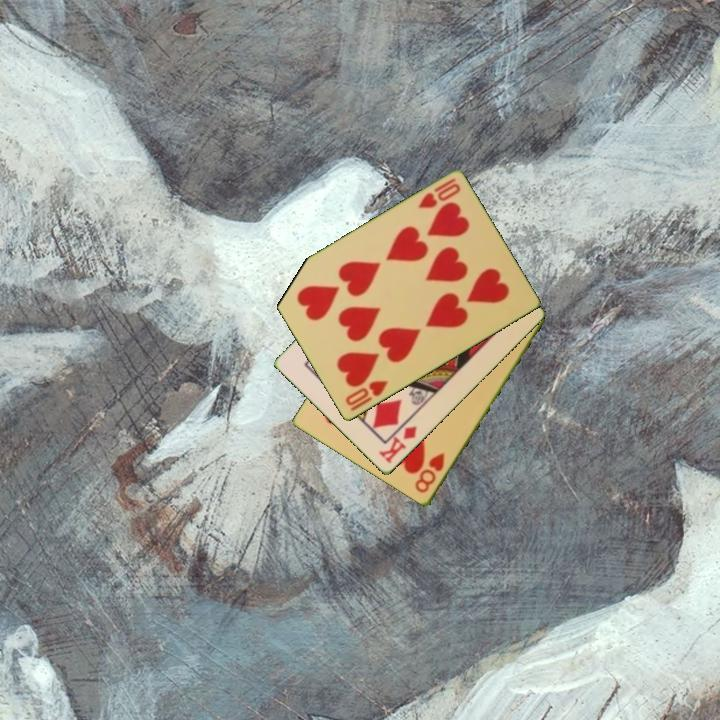10h: (342, 377, 391, 414), (415, 175, 463, 212)
8h: (411, 449, 448, 496)
Kd: (375, 423, 420, 467)
